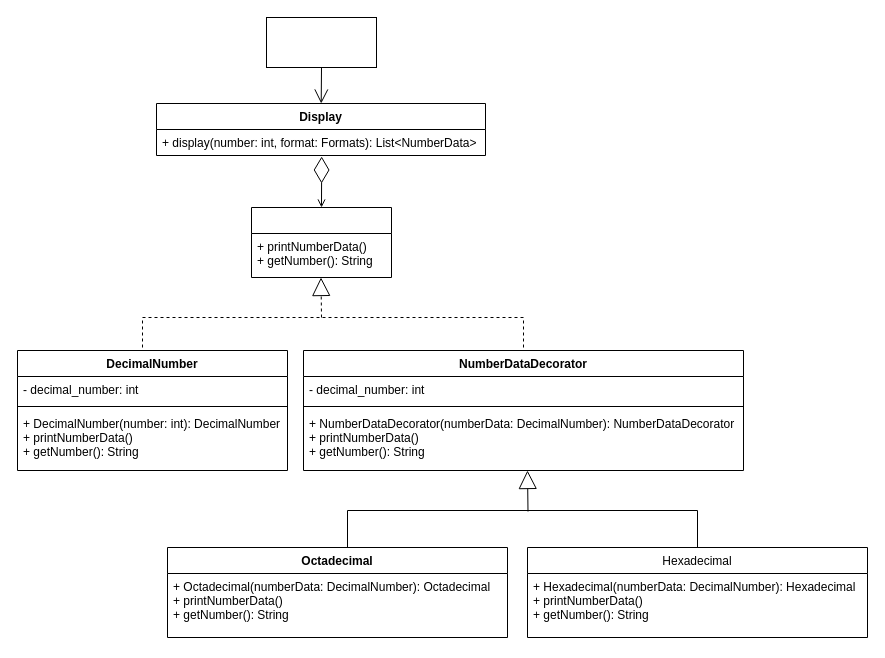
Image size: 885x658. Some labels were removed from this diagram. Here are the shapes that lost their labels. From the top down, the box of each, then its label:
(266, 16, 376, 68): Client
(250, 206, 392, 278): Interface NumberData
